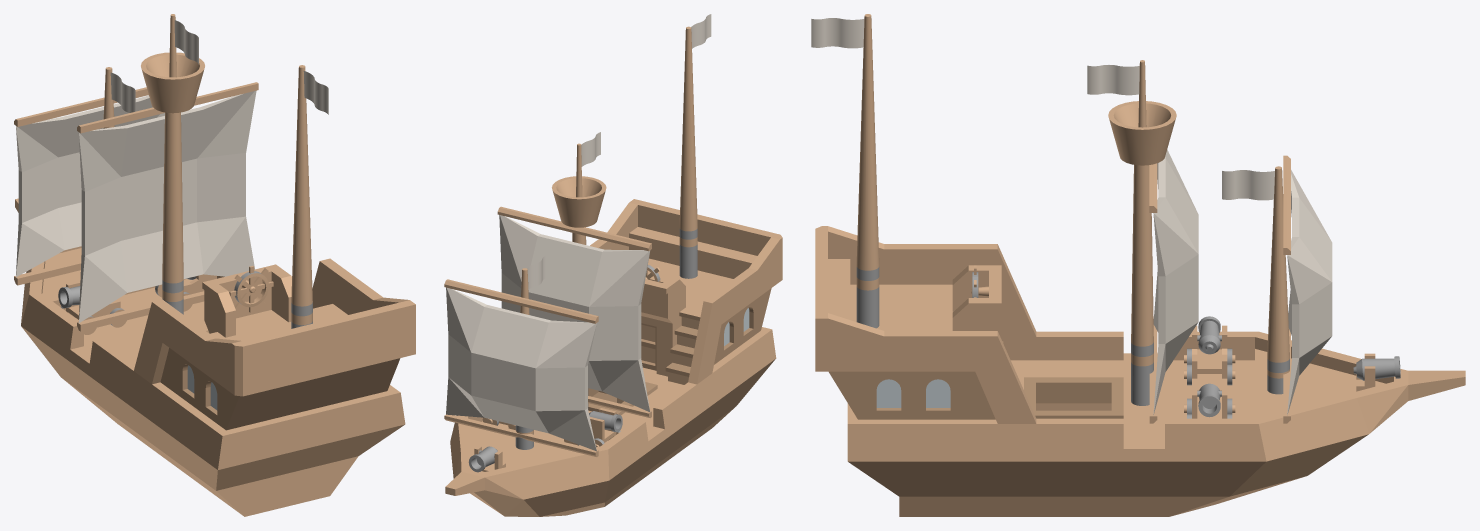
Rendered from galleon.glb.
The picture shows the model from 3 angles, left to right: view 1: azimuth 30°, elevation 25°; view 2: azimuth 150°, elevation 25°; view 3: azimuth 270°, elevation 25°; orthographic projection. The views are drawn at different scales.
Parts seen in each view (by area): view 1: wood_light, sail_middle, sail_front, wood_dark, flags, steering, mast_iron; view 2: wood_light, sail_front, sail_middle, wood_dark, flags, mast_iron, cannon_front_barrel, cannon_left, cannon_left_barrel; view 3: wood_light, wood_dark, sail_middle, sail_front, flags, mast_iron, windows, cannon_left, cannon_front_barrel, cannon_left_barrel.
Boxes of the visible parts, x1,y1,x2,y2 form: wood_light: (15,14,415,516); sail_middle: (77,82,258,331); sail_front: (14,87,164,285); wood_dark: (160,330,400,430); flags: (110,20,328,114); steering: (229,265,273,312); mast_iron: (162,280,312,328); wood_light: (445,26,782,516); sail_front: (444,279,598,456); sail_middle: (497,206,651,417); wood_dark: (588,288,771,414); flags: (527,14,711,289); mast_iron: (515,228,697,449); cannon_front_barrel: (468,446,497,472); cannon_left: (589,408,616,442); cannon_left_barrel: (589,411,622,432); wood_light: (815,14,1465,516); wood_dark: (829,341,1123,419); sail_middle: (1149,149,1198,423); sail_front: (1283,155,1332,423); flags: (811,18,1274,200); mast_iron: (856,267,1289,405); windows: (876,379,950,407); cannon_left: (1192,325,1227,378); cannon_front_barrel: (1353,356,1400,380); cannon_left_barrel: (1198,316,1220,354).
Size of what is drawn, in the model's own units: 2.85 by 6.55 by 8.1.
